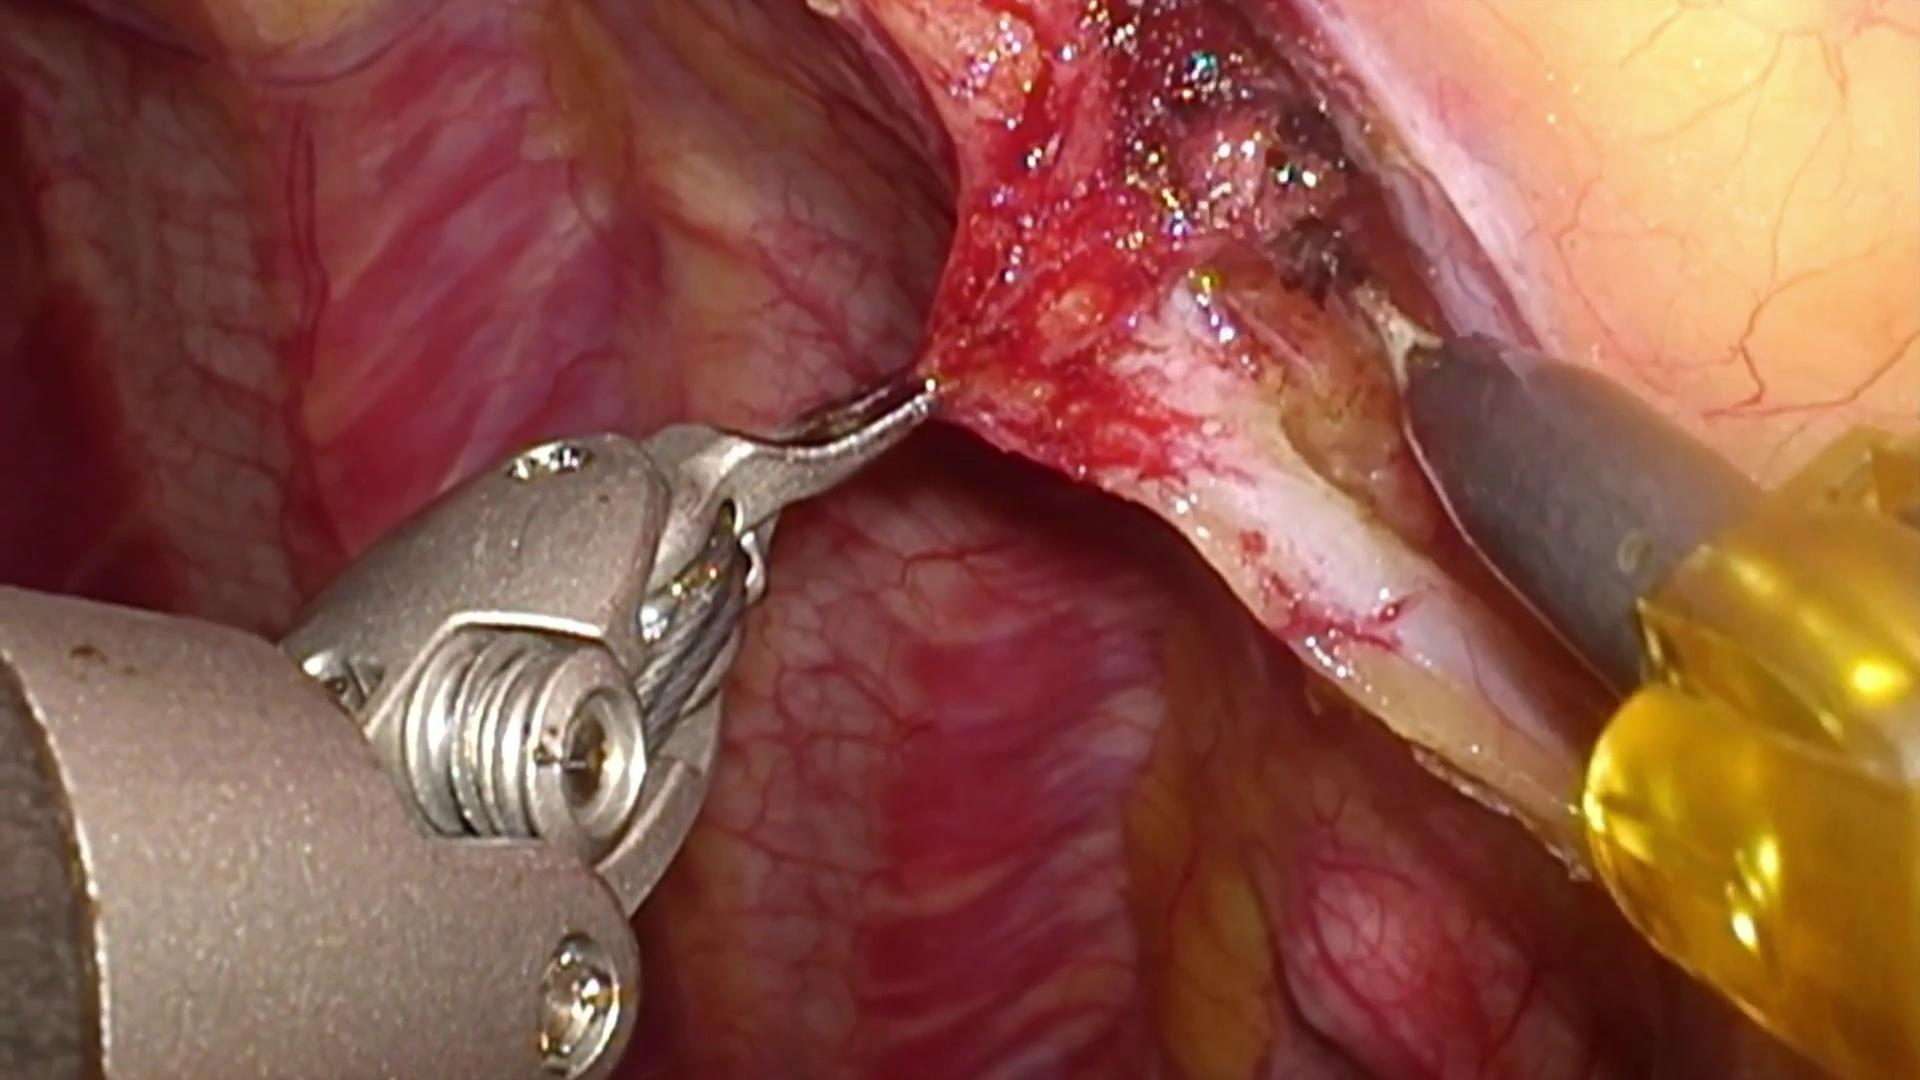Cautery_Spatula: (1302, 240, 1763, 687)
Debakey: (650, 367, 957, 588)
